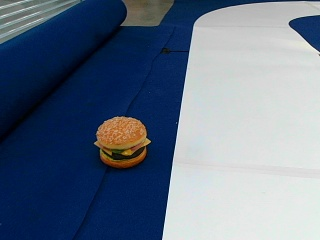burger: (94, 114, 149, 167)
